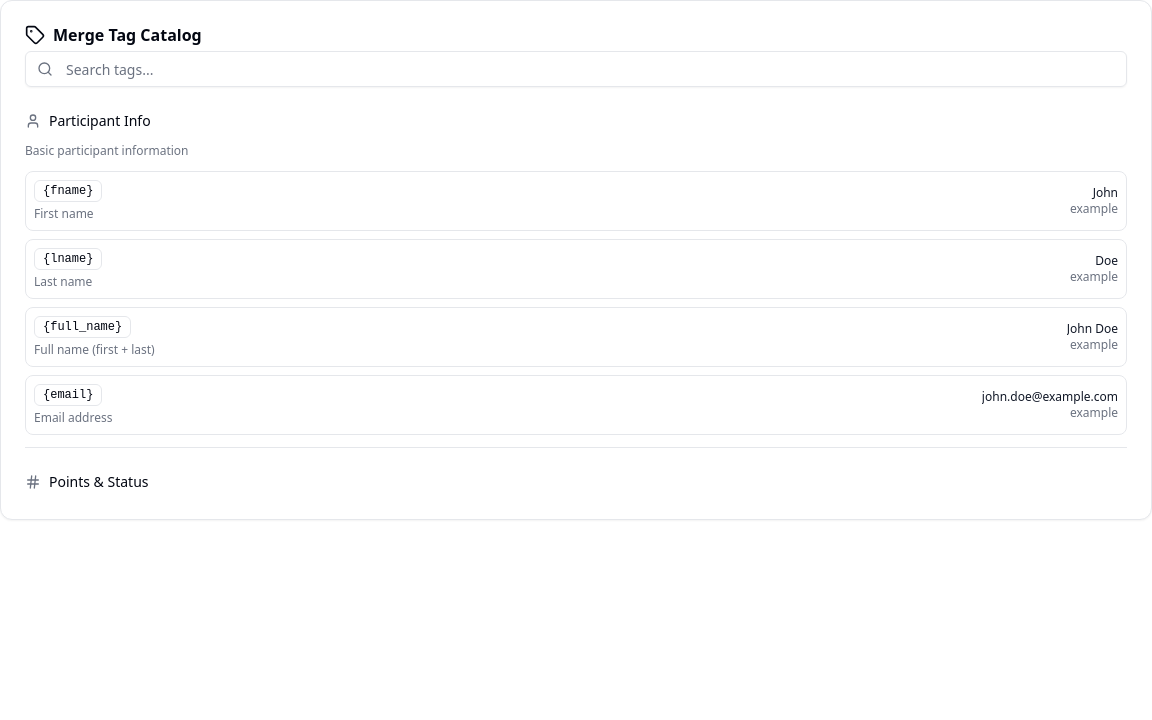
Test: MergeTagPalette › filters tags when searching
Type "points" into the field with placeholder "Search tags..." at point(576, 69), box [25,51,1127,87]
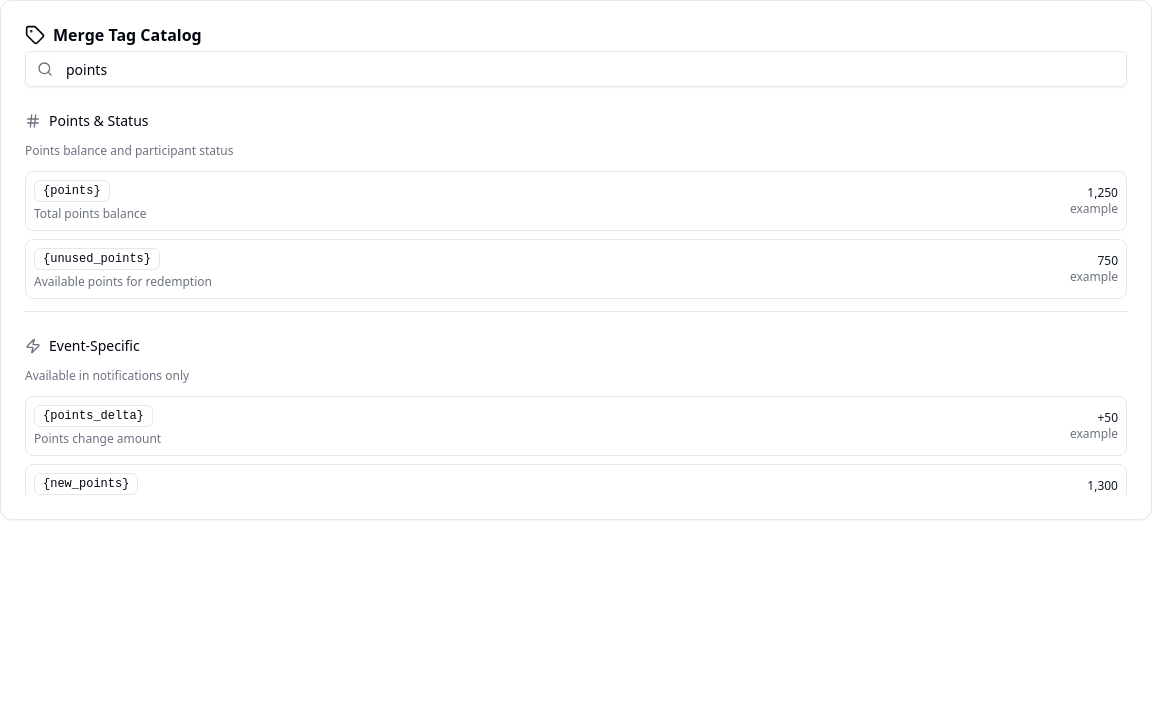
Expected: the text "{points}" is shown, [34,180,110,202]
Expected: the text "{unused_points}" is shown, [34,248,160,270]
Expected: the text "{fname}" is gone
